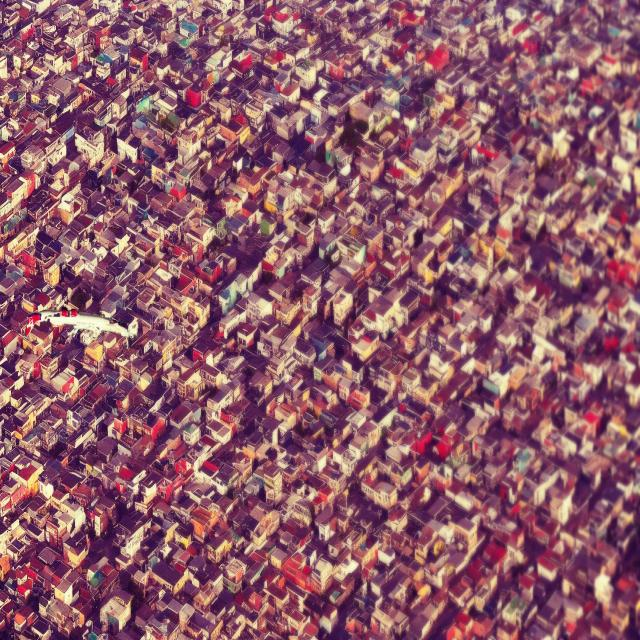airplane: (26, 311, 138, 349)
